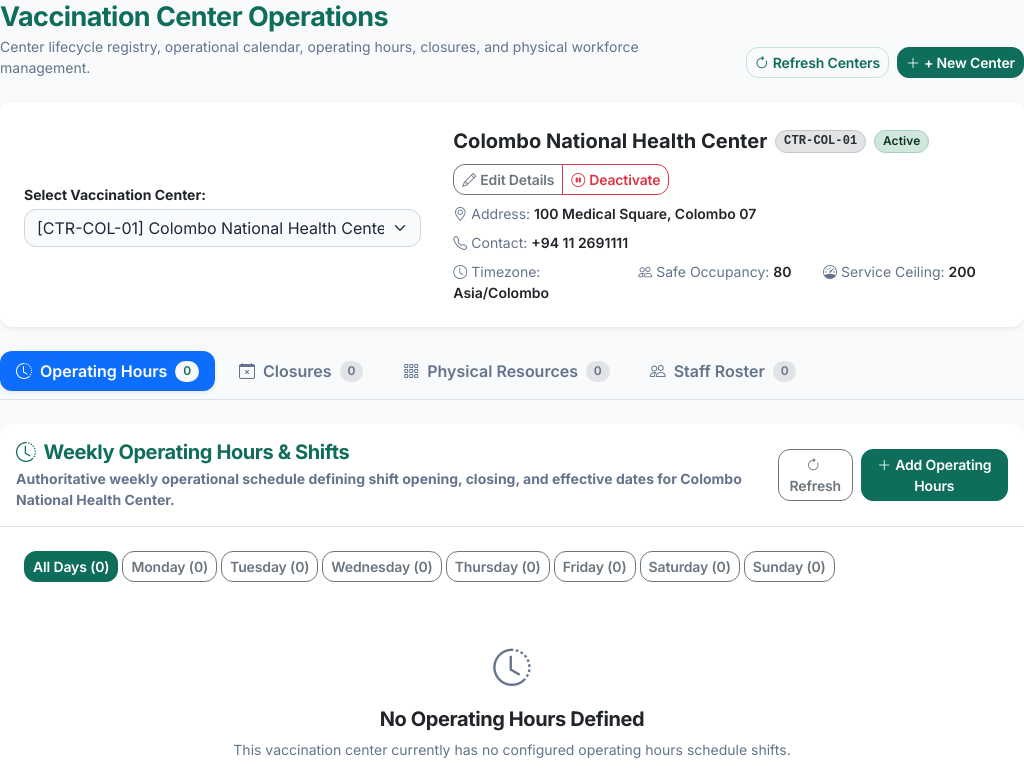
CenterOperationsPage - Center CRUD integration › successfully creates a valid center, closes modal, and refreshes the center registry
expect the text "Colombo National Health Center" is shown: met, box [453,126,767,156]
Click the button "+ New Center" at [961, 63], box [897,47,1023,78]
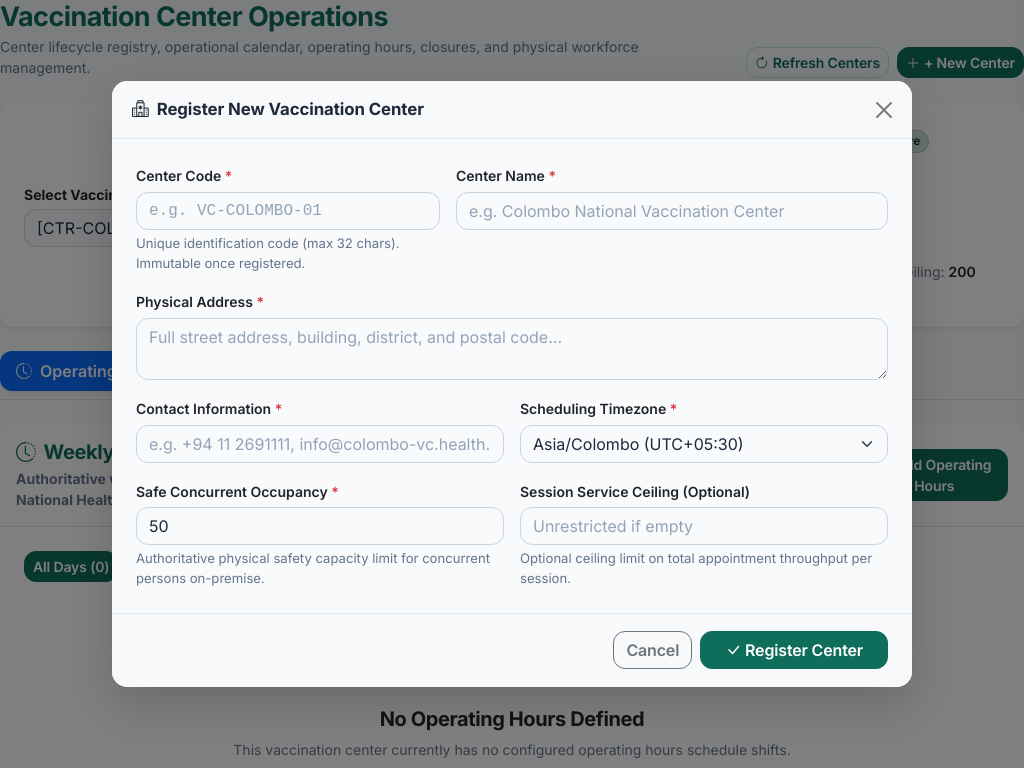
expect the heading "Register New Vaccination Center" is shown: met, box [132,97,424,122]
Type "CTR-GAL-03" into the field labelled "Center Code *" at [288, 211], box [136,192,440,230]
Type "Galle General Center" into the field labelled "Center Name *" at [672, 211], box [456,192,888,230]
Type "12 Fort Road, Galle" into the text box labelled "Physical Address *" at [512, 349], box [136,318,888,380]
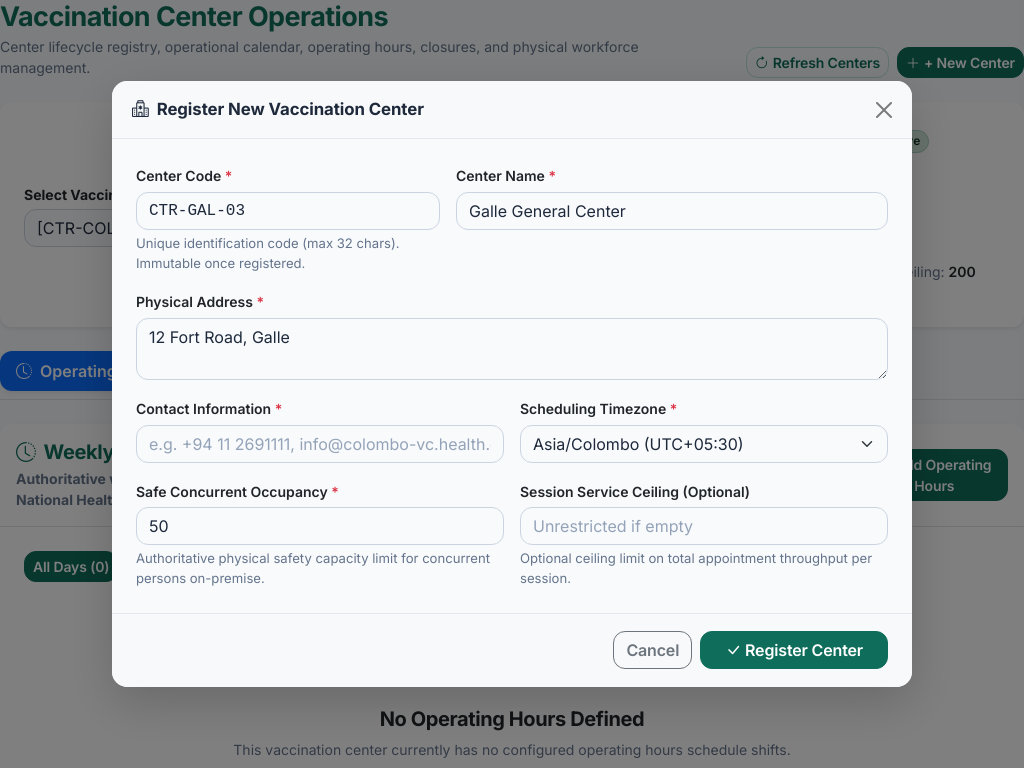
Type "+94 91 2233111" into the field labelled "Contact Information *" at [320, 444], box [136,425,504,463]
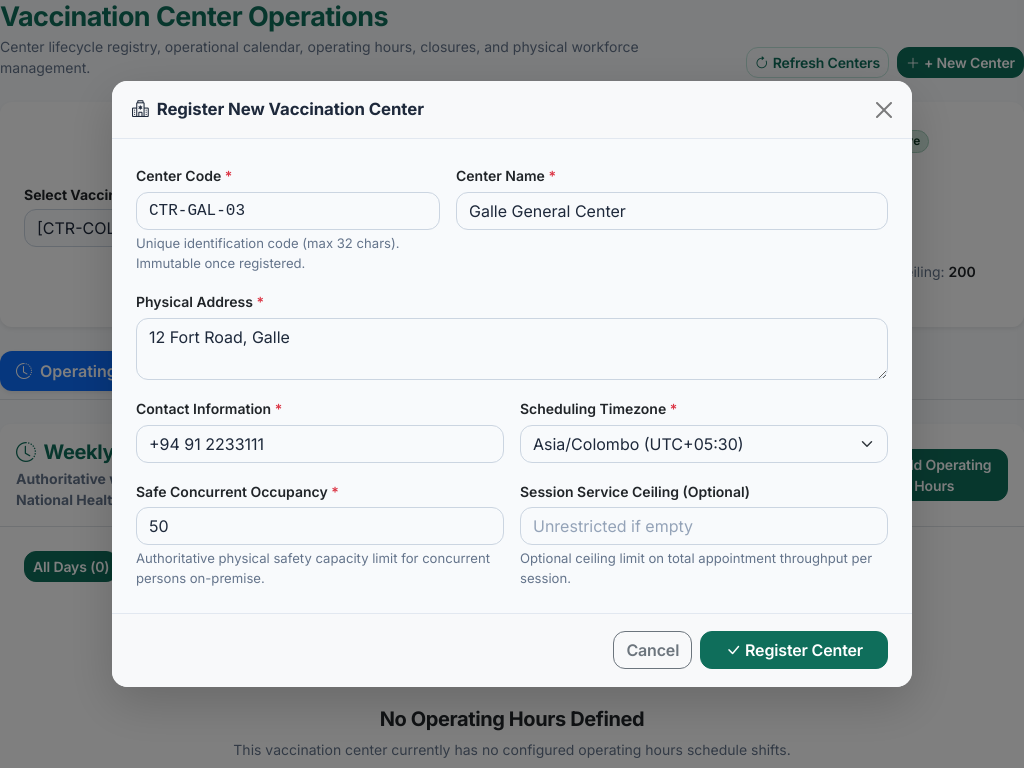
Replace the text in the number field labelled "Safe Concurrent Occupancy *" with "60" at [320, 526], box [136,507,504,545]
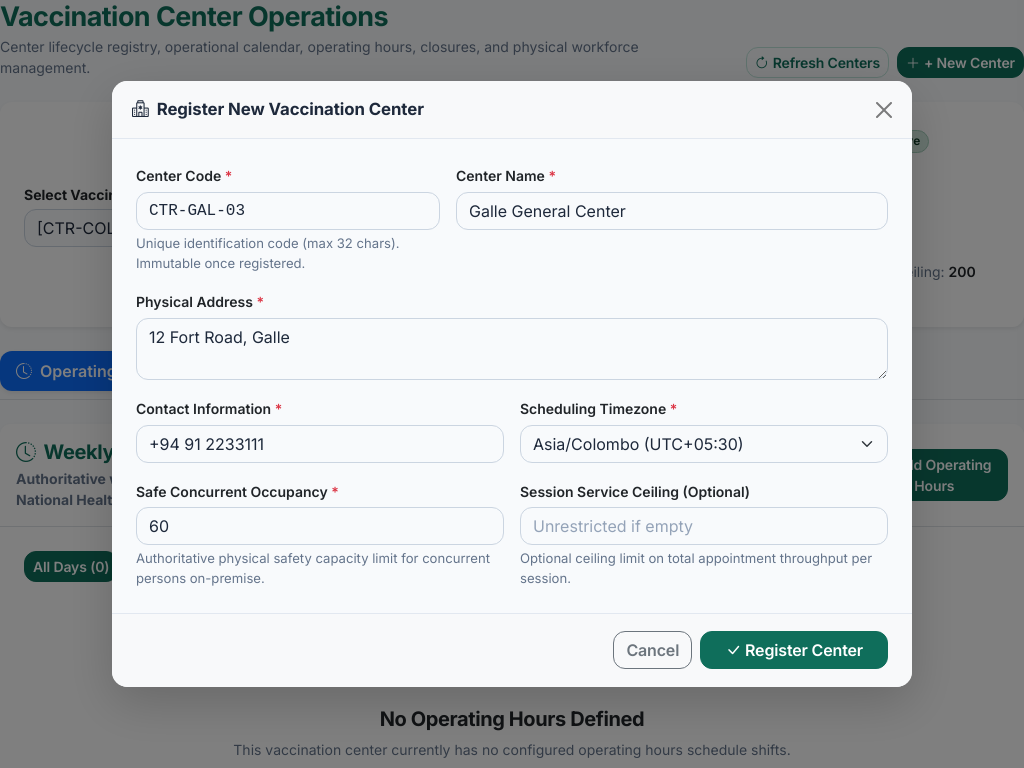
Type "150" into the number field labelled "Session Service Ceiling (Optional)" at [704, 526], box [520,507,888,545]
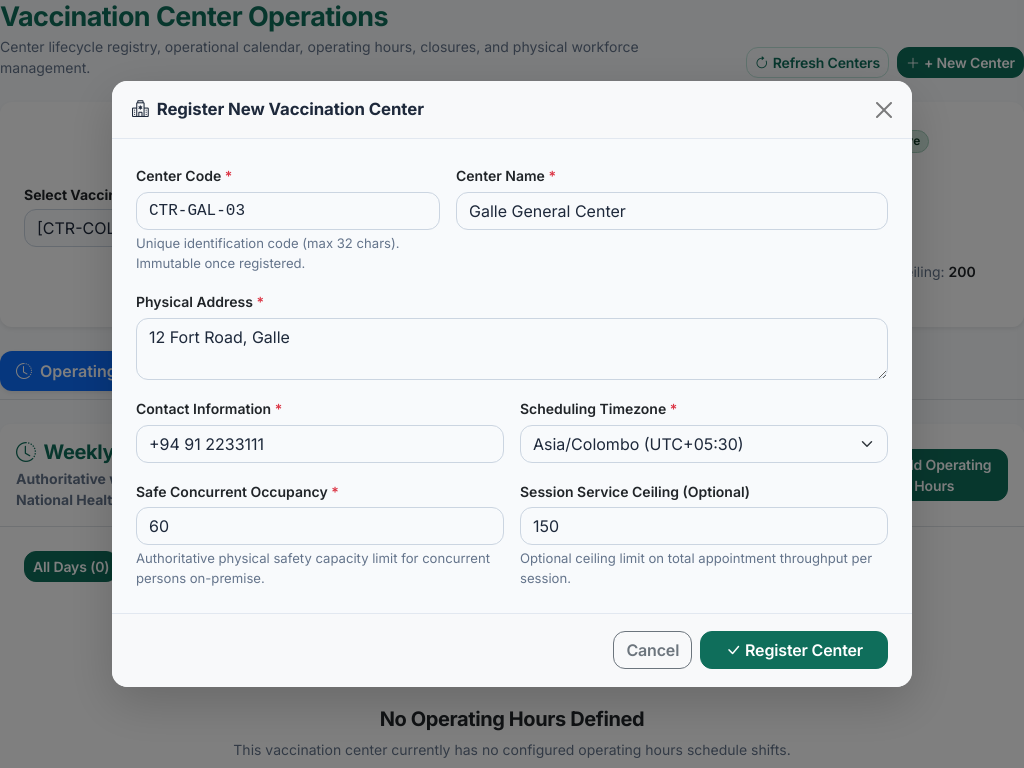
Click the button "Register Center" at [794, 650], box [700,631,888,669]
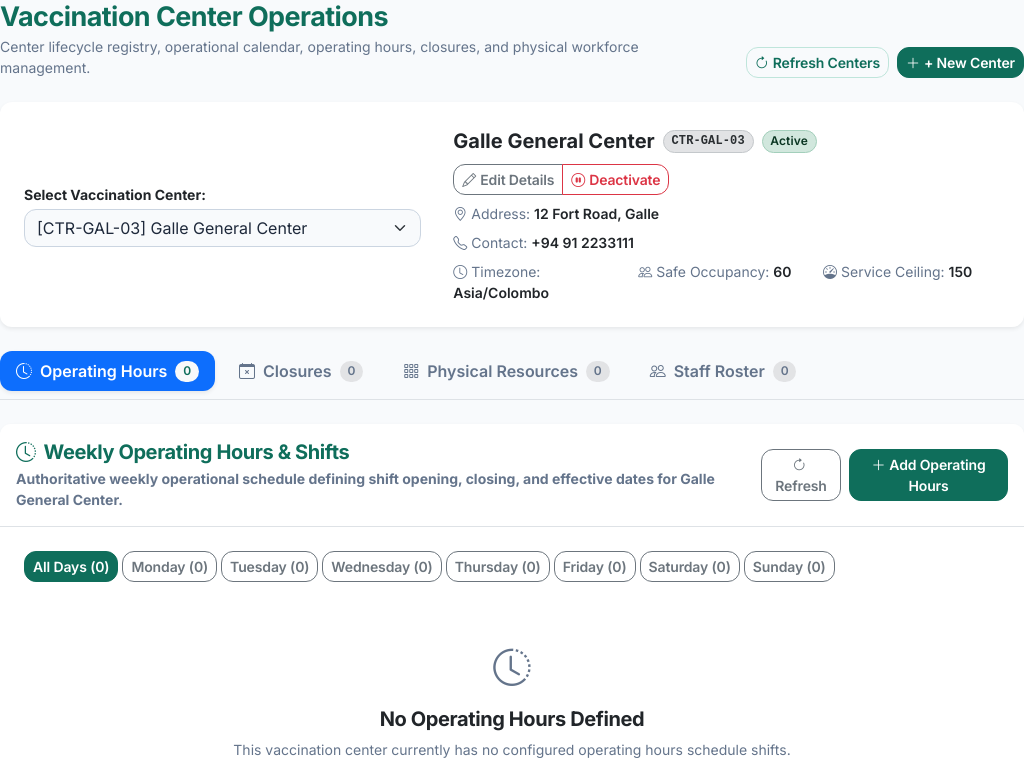
expect the heading "Register New Vaccination Center" is gone: met
